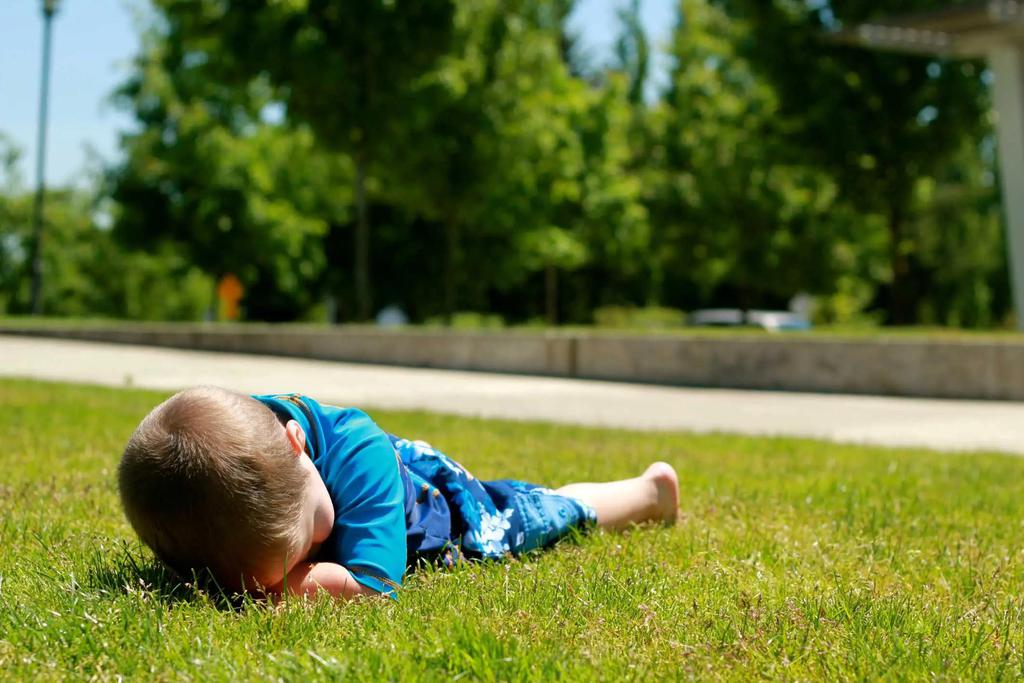child: (104, 349, 697, 617)
